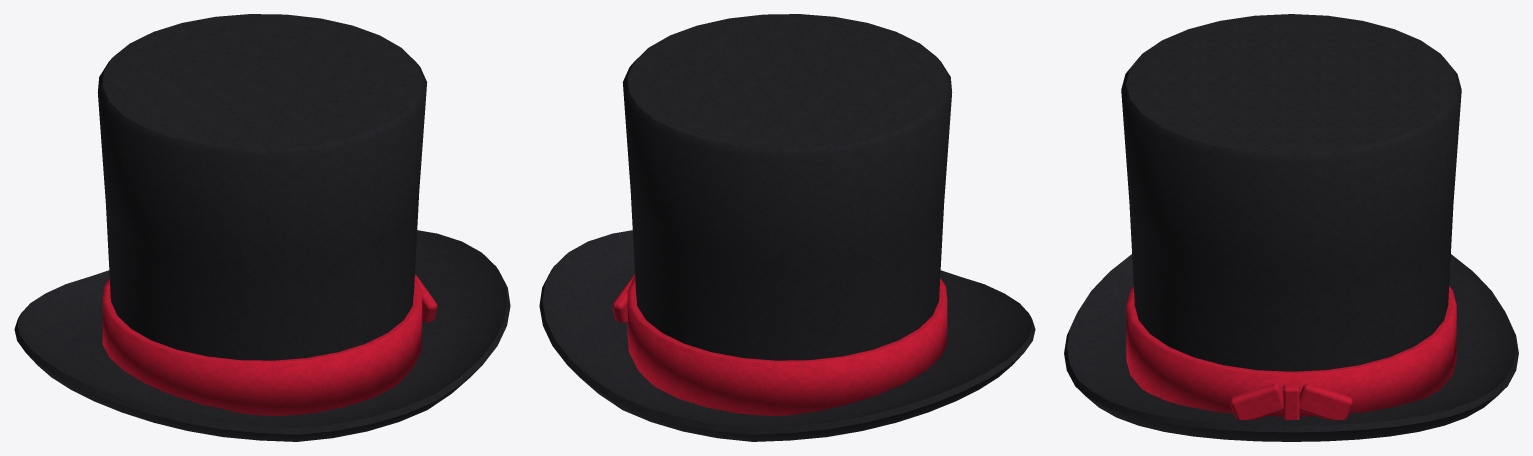
File: x_hat_tophat.glb
3 renders of one model, left to right at view 1: azimuth 30°, elevation 25°; view 2: azimuth 150°, elevation 25°; view 3: azimuth 270°, elevation 25°, orthographic. The views are drawn at different scales.
Visible parts, largest first — view 1: hat_body.001, hat_band; view 2: hat_body.001, hat_band; view 3: hat_body.001, hat_band.
Part boxes in pixels (left/top/right/bottom): hat_body.001: left=14, top=14, right=510, bottom=441; hat_band: left=102, top=275, right=437, bottom=416; hat_body.001: left=539, top=14, right=1035, bottom=441; hat_band: left=612, top=275, right=947, bottom=415; hat_body.001: left=1064, top=14, right=1518, bottom=441; hat_band: left=1126, top=286, right=1456, bottom=419.
Size of the model in its own units: 1.6 by 0.96 by 1.38.
2 materials, 2 textured.
